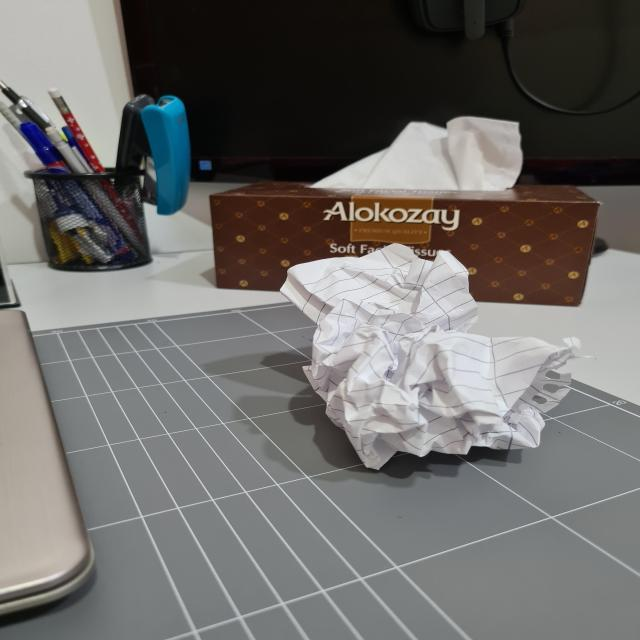trash: (283, 246, 585, 474)
